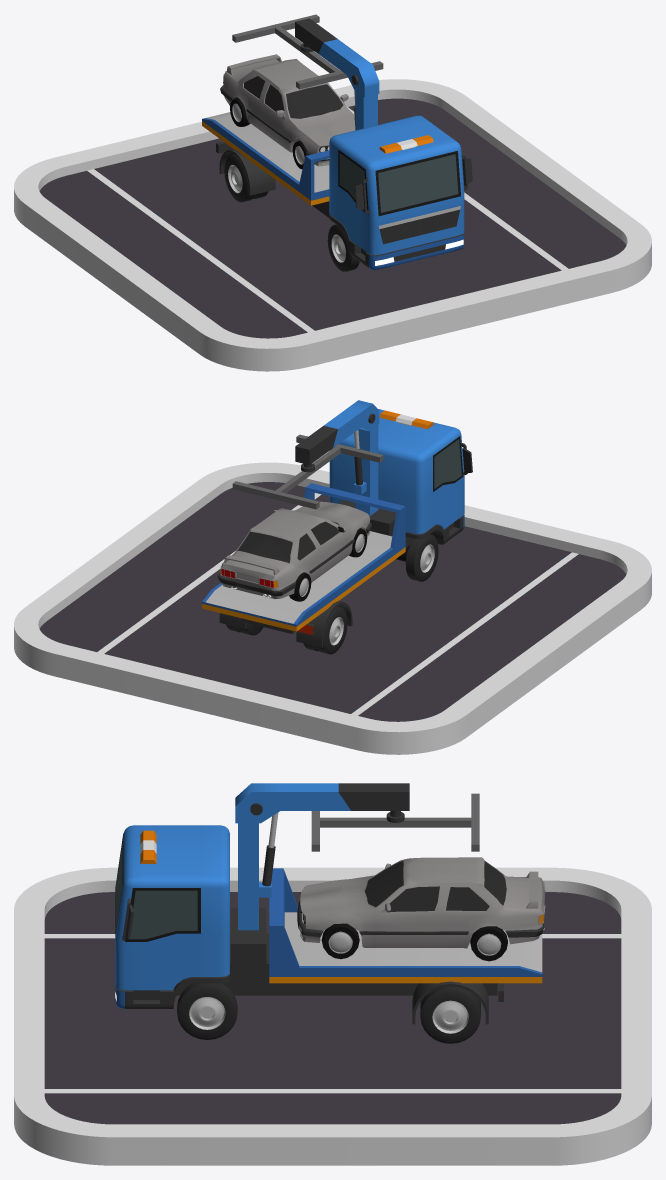
Rendered from Эвакуатор.gltf.
The picture shows the model from 3 angles, top to bottom: view 1: azimuth 30°, elevation 25°; view 2: azimuth 150°, elevation 25°; view 3: azimuth 270°, elevation 25°; orthographic projection. The views are drawn at different scales.
Parts seen in each view (by area): view 1: Cube.001; view 2: Cube.001; view 3: Cube.001.
Boxes of the visible parts, bbox=[...] form: Cube.001: bbox=[14, 14, 651, 371]; Cube.001: bbox=[14, 400, 651, 754]; Cube.001: bbox=[14, 783, 651, 1165].
Size of the model in its own units: 6.01 by 2.53 by 6.01.
